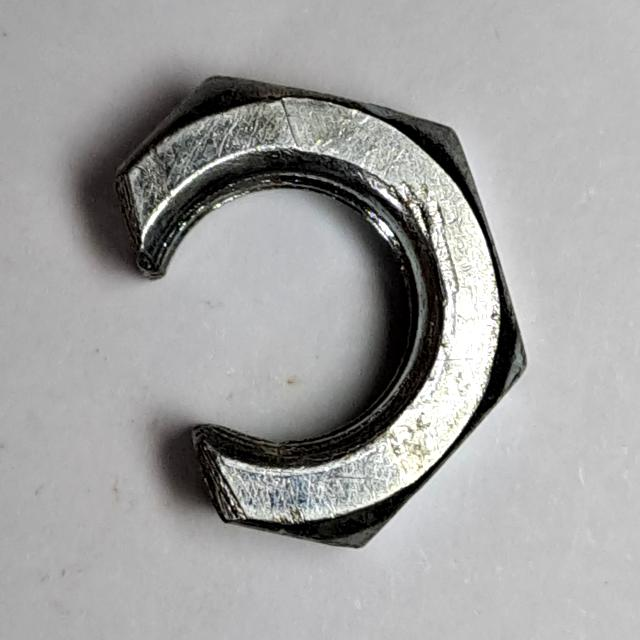Fracture: (96, 57, 547, 573)
